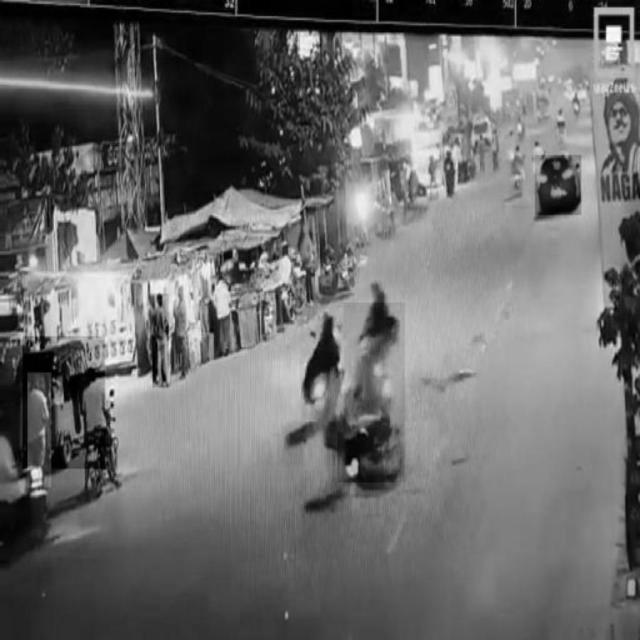accident: (338, 303, 405, 483)
person: (27, 373, 51, 487), (153, 294, 169, 387)
vehicle: (23, 336, 105, 468), (300, 292, 344, 433), (84, 360, 118, 494), (535, 155, 581, 216)
